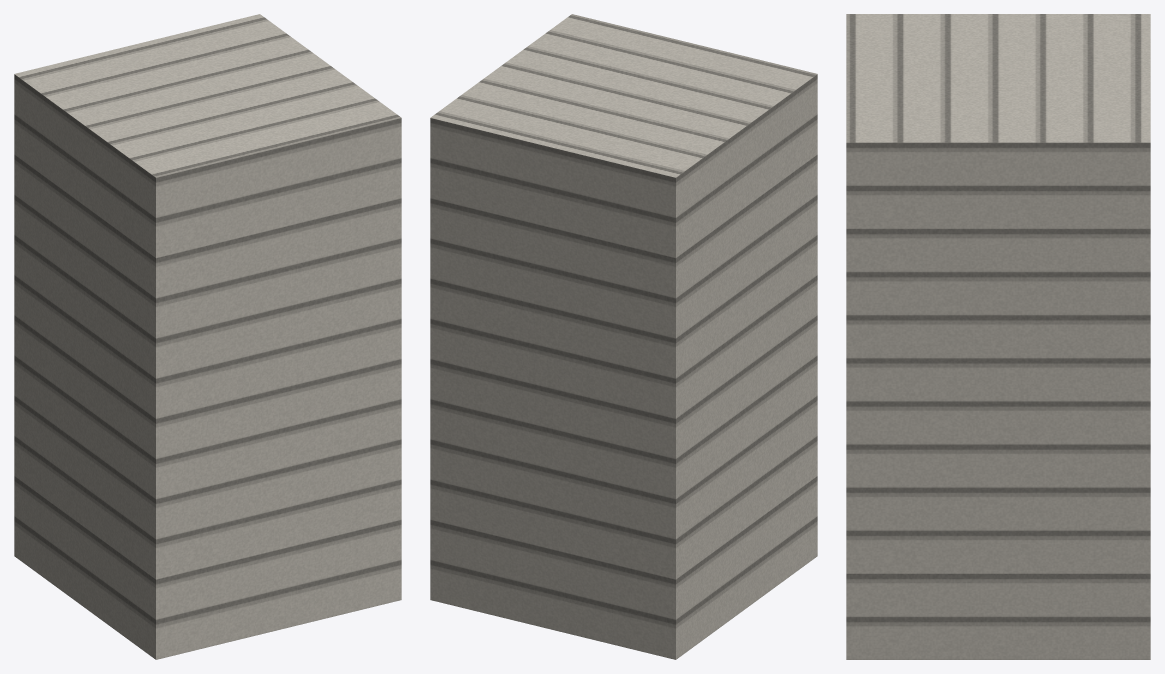
File: tire_changer_balancer.glb
3 views of the same model, side by side, from view 1: azimuth 30°, elevation 25°; view 2: azimuth 150°, elevation 25°; view 3: azimuth 270°, elevation 25° (orthographic). The views are drawn at different scales.
Parts seen in each view (by area): view 1: tire_changer_balancer-col; view 2: tire_changer_balancer-col; view 3: tire_changer_balancer-col.
Part boxes in pixels (x1,y1,x2,y2): tire_changer_balancer-col: [14, 14, 401, 659]; tire_changer_balancer-col: [430, 14, 817, 659]; tire_changer_balancer-col: [846, 14, 1150, 659].
Size of the model in its own units: 0.8 by 1.5 by 0.8.
1 material, 1 textured.
